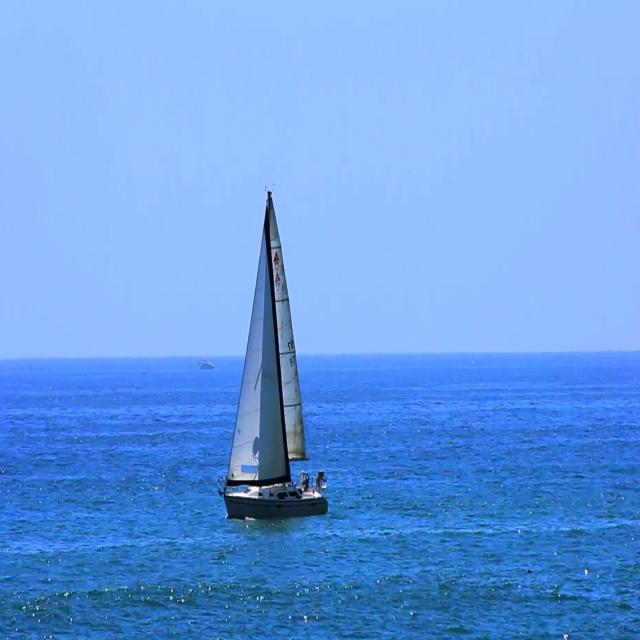houseboat: (197, 355, 216, 370)
sailboat: (222, 181, 328, 523)
